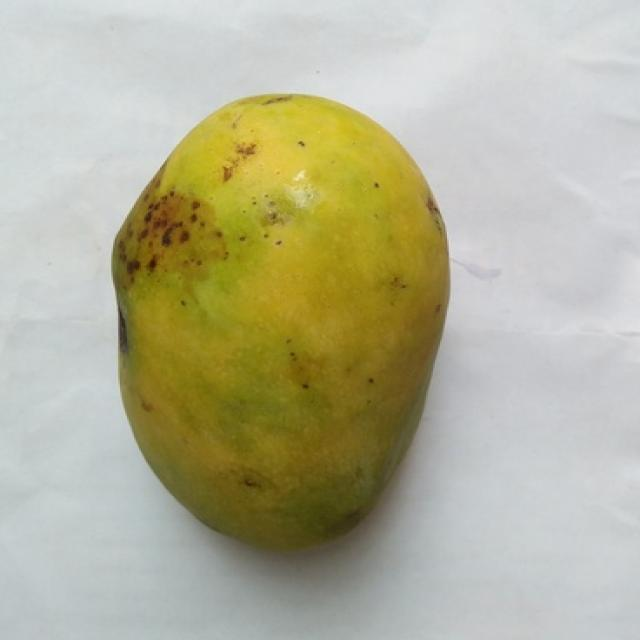Mango: (113, 94, 449, 549)
